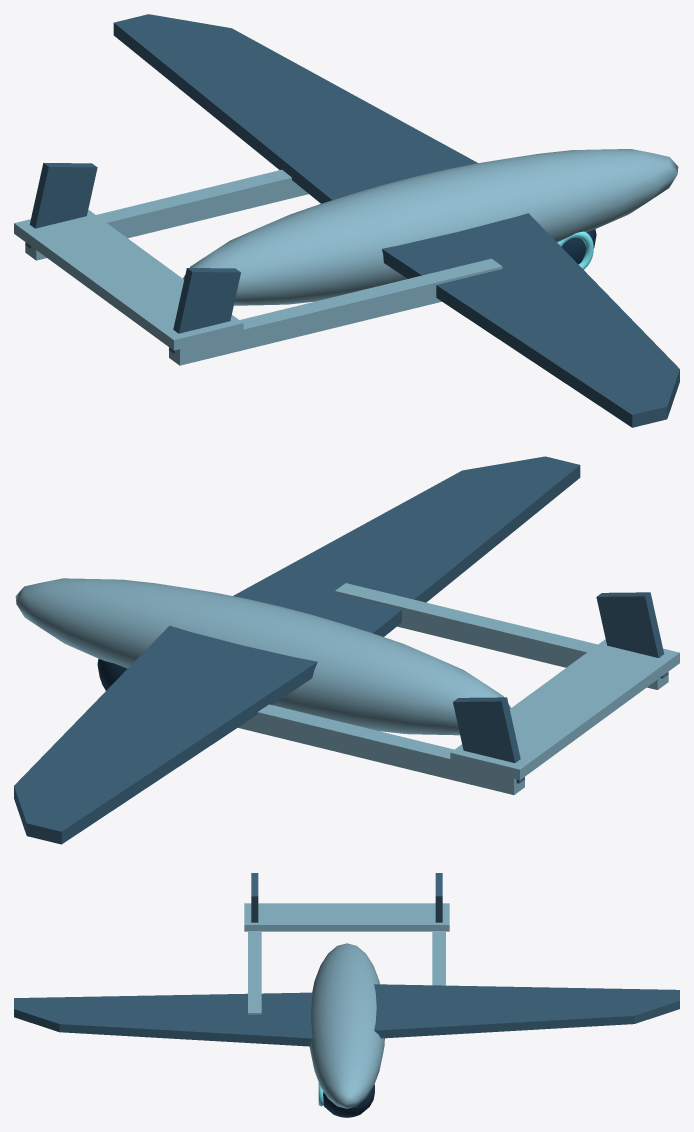
Rendered from surveyPlane.glb.
3 renders of one model, top to bottom at view 1: azimuth 30°, elevation 25°; view 2: azimuth 150°, elevation 25°; view 3: azimuth 270°, elevation 25°, orthographic. The views are drawn at different scales.
Bounding box in the file's own units: 13.4 × 3.63 × 20.6.
